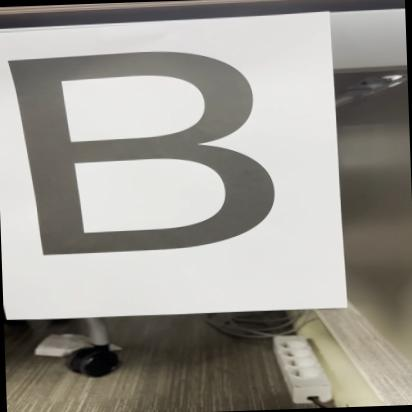seat: (2, 39, 300, 270)
